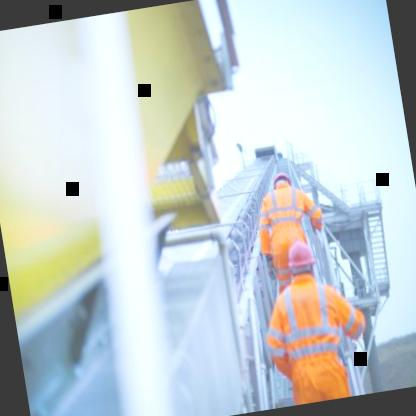helmet: (284, 233, 318, 286), (268, 167, 292, 193)
